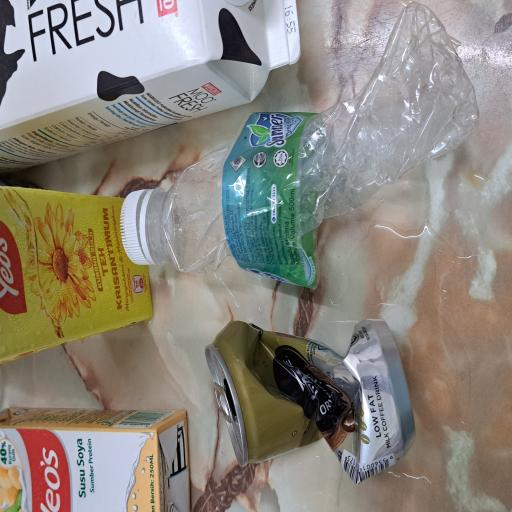can: (94, 25, 307, 193)
drink carton: (210, 341, 512, 511), (358, 149, 512, 326), (318, 0, 512, 105)
plastic bottle: (32, 222, 366, 509)
plastic bottle cap: (360, 245, 393, 324)
pop tab: (280, 88, 299, 130)
